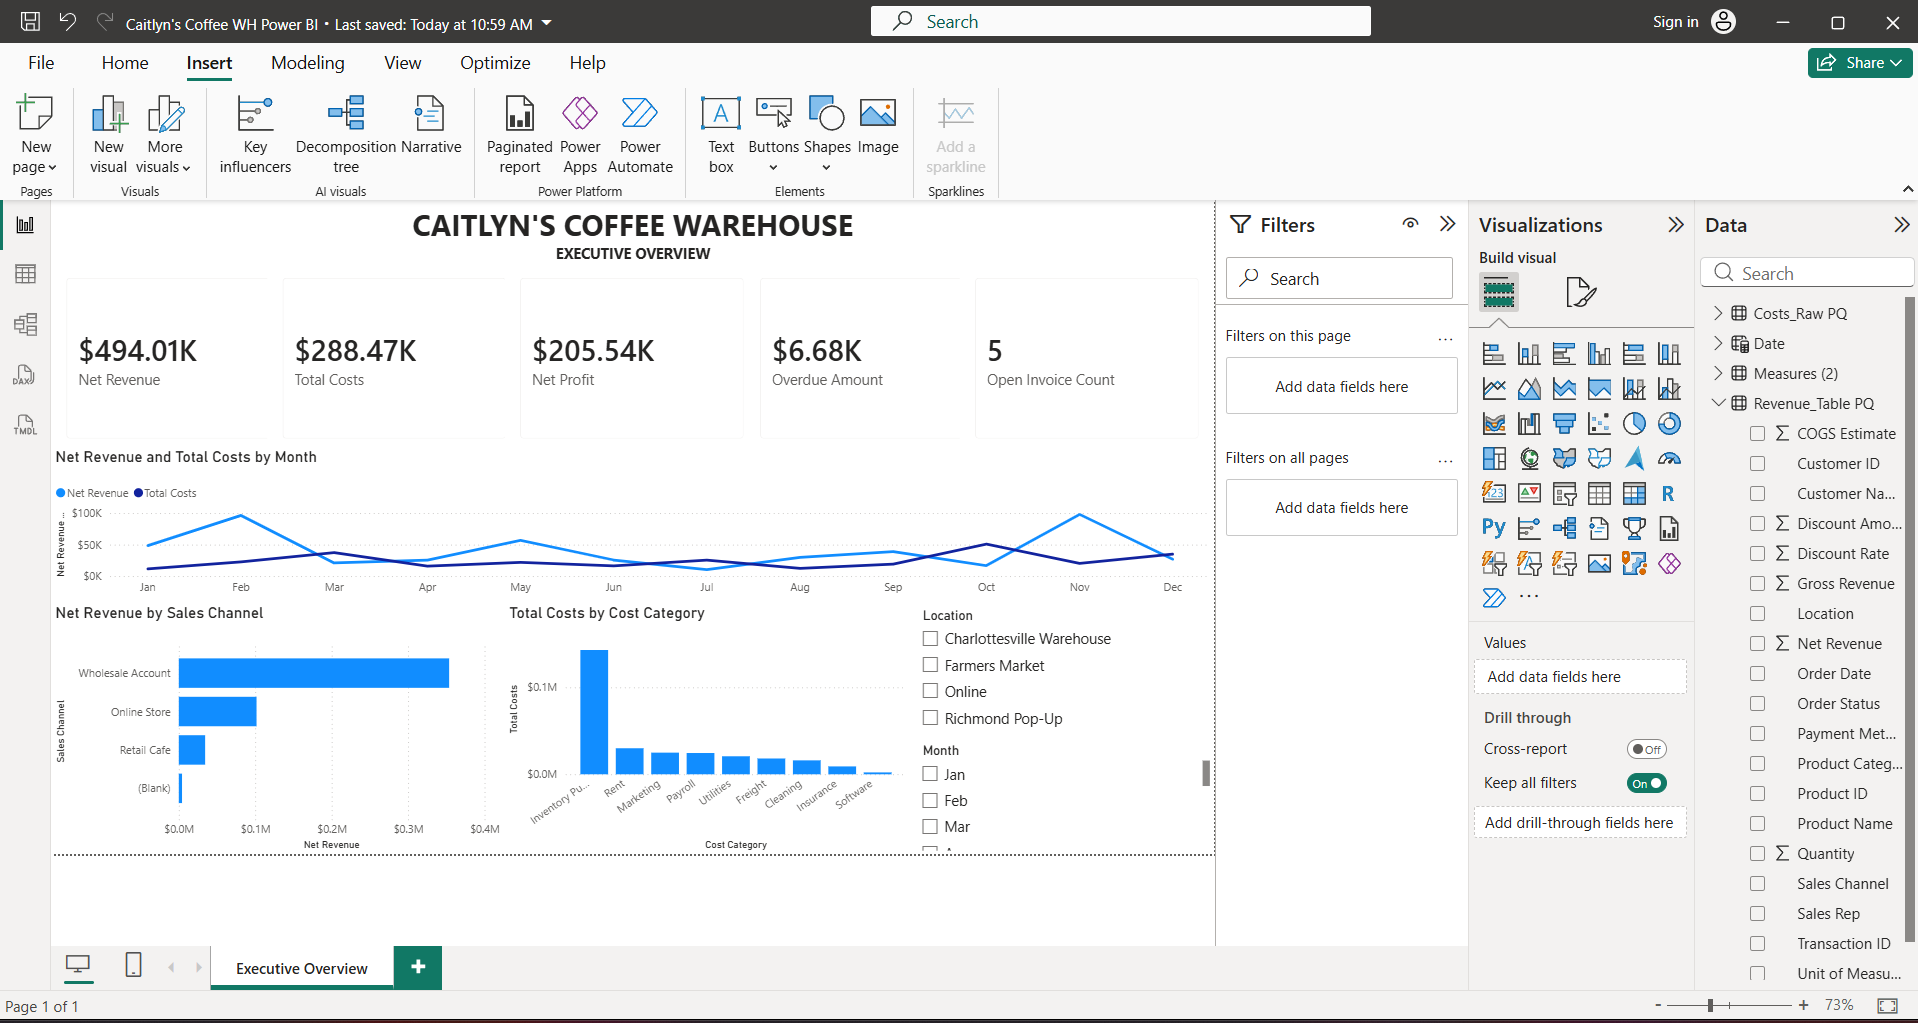

The dashboard page shown, as its layout file describes it:
{"tool":"powerbi","page":{"name":"Executive Overview","canvas":[1280,720],"ordinal":0},"visuals":[{"type":"cardVisual","fields":{"Data":["Measures (2).Net Revenue"]},"box":[0,85.7,266.9,187],"z":0},{"type":"cardVisual","fields":{"Data":["Measures (2).Total Costs"]},"box":[266.9,85.7,251.3,187],"z":1000},{"type":"cardVisual","fields":{"Data":["Measures (2).Net Profit"]},"box":[518.2,85.7,261.1,187],"z":2000},{"type":"cardVisual","fields":{"Data":["Measures (2).Overdue Amount"]},"box":[779.4,85.1,264.2,188],"z":3000},{"type":"cardVisual","fields":{"Data":["Measures (2).Open Invoice Count"]},"box":[1043.6,85.1,236.7,188],"z":4000},{"type":"lineChart","title":"Monthly Revenue vs. Costs","fields":{"Y":["Measures (2).Net Revenue","Measures (2).Total Costs"],"Category":["Date.Month"]},"box":[0,272.3,1280.3,171.5],"z":5000},{"type":"clusteredBarChart","title":"Net Revenue by Sales Channel","fields":{"Category":["Revenue_Table PQ.Sales Channel"],"Y":["Measures (2).Net Revenue"]},"box":[0,444.2,499.2,276.4],"z":6000},{"type":"clusteredColumnChart","title":"Total Costs by Category","fields":{"Category":["Costs_Raw PQ.Cost Category"],"Y":["Measures (2).Total Costs"]},"box":[499.2,444.2,511.6,276.7],"z":7000},{"type":"slicer","fields":{"Values":["Date.Month"]},"box":[1010.8,652.6,269.6,67.4],"z":8000},{"type":"slicer","fields":{"Values":["Revenue_Table PQ.Location"]},"box":[1010.8,444.2,269.6,208.4],"z":9000},{"type":"textbox","box":[0,0,1280.3,85.3],"z":10000}]}

Visuals, with their boxes on the page's 1280x720 design canvas (x1, y1, x2, y2). These are canvas units, not pixel positions in the 1918x1023 screenshot, which may show the page scaled, cropped or inside an application window:
cardVisual - Measures (2).Net Revenue: x1=0, y1=86, x2=267, y2=273
cardVisual - Measures (2).Total Costs: x1=267, y1=86, x2=518, y2=273
cardVisual - Measures (2).Net Profit: x1=518, y1=86, x2=779, y2=273
cardVisual - Measures (2).Overdue Amount: x1=779, y1=85, x2=1044, y2=273
cardVisual - Measures (2).Open Invoice Count: x1=1044, y1=85, x2=1280, y2=273
"Monthly Revenue vs. Costs" lineChart: x1=0, y1=272, x2=1280, y2=444
"Net Revenue by Sales Channel" clusteredBarChart: x1=0, y1=444, x2=499, y2=721
"Total Costs by Category" clusteredColumnChart: x1=499, y1=444, x2=1011, y2=721
slicer - Date.Month: x1=1011, y1=653, x2=1280, y2=720
slicer - Revenue_Table PQ.Location: x1=1011, y1=444, x2=1280, y2=653
textbox: x1=0, y1=0, x2=1280, y2=85
